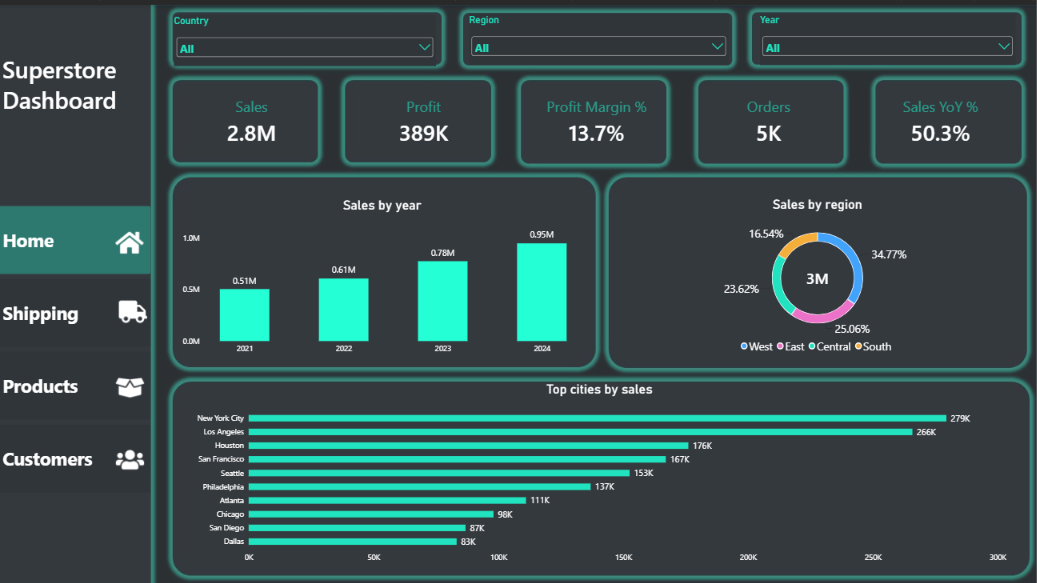

This screenshot's page, from the dashboard's own definition file:
{"tool":"powerbi","page":{"name":"Home ","canvas":[1920,1080],"ordinal":0},"visuals":[{"type":"cardVisual","fields":{"Data":["Main Kpi.Total Sales"]},"box":[328,154,286,122],"z":0},{"type":"columnChart","title":"Sales by year","fields":{"Category":["DimDate.Year"],"Y":["Sum(FactSales.Sales)"]},"box":[328,340,766,322],"z":1000},{"type":"pageNavigator","box":[0,369.9,285.3,528.2],"z":2000},{"type":"textbox","box":[0,88.3,327.6,127],"z":3000},{"type":"donutChart","title":"Sales by region","fields":{"Category":["DimLocation.Region"],"Y":["Main Kpi.Total Sales"]},"box":[1143,338.7,738,322],"z":4000},{"type":"clusteredBarChart","title":"Top cities by sales","fields":{"Category":["DimLocation.City"],"Y":["Sum(FactSales.Sales)"]},"box":[346,679.1,1529.5,368.1],"z":5000},{"type":"slicer","title":"Year","fields":{"Values":["DimDate.Year"]},"box":[1406,16,470,94],"z":6000},{"type":"slicer","title":"Region","fields":{"Values":["DimLocation.Region"]},"box":[870,16,478,94],"z":7000},{"type":"slicer","title":"Country","fields":{"Values":["DimLocation.Country"]},"box":[327,18,482,94],"z":8000},{"type":"cardVisual","fields":{"Data":["Main Kpi.Total Profit"]},"box":[645,154,286,122],"z":9000},{"type":"cardVisual","fields":{"Data":["Main Kpi.Profit Margin %"]},"box":[962,154,286,122],"z":10000},{"type":"cardVisual","fields":{"Data":["Main Kpi.Orders"]},"box":[1279,154,286,122],"z":11000},{"type":"cardVisual","fields":{"Data":["Main Kpi.Sales YoY %"]},"box":[1596,154,286,122],"z":12000},{"type":"image","box":[206.1,412.3,79.1,51.5],"z":13000},{"type":"image","box":[206.1,539.3,92,51.5],"z":14000},{"type":"image","box":[200.6,679.1,92,51.5],"z":15000},{"type":"image","box":[200.6,811.7,92,51.5],"z":16000}]}

Visuals, with their boxes in screenshot pixels (x1, y1, x2, y2), scaled from the page's 1920x1080 canvas onto the 1037x583 screenshot:
cardVisual - Main Kpi.Total Sales: box(177, 83, 332, 149)
"Sales by year" columnChart: box(177, 184, 591, 357)
pageNavigator: box(0, 200, 154, 485)
textbox: box(0, 48, 177, 116)
"Sales by region" donutChart: box(617, 183, 1016, 357)
"Top cities by sales" clusteredBarChart: box(187, 367, 1013, 565)
"Year" slicer: box(759, 9, 1013, 59)
"Region" slicer: box(470, 9, 728, 59)
"Country" slicer: box(177, 10, 437, 60)
cardVisual - Main Kpi.Total Profit: box(348, 83, 503, 149)
cardVisual - Main Kpi.Profit Margin %: box(520, 83, 674, 149)
cardVisual - Main Kpi.Orders: box(691, 83, 845, 149)
cardVisual - Main Kpi.Sales YoY %: box(862, 83, 1016, 149)
image: box(111, 223, 154, 250)
image: box(111, 291, 161, 319)
image: box(108, 367, 158, 394)
image: box(108, 438, 158, 466)
